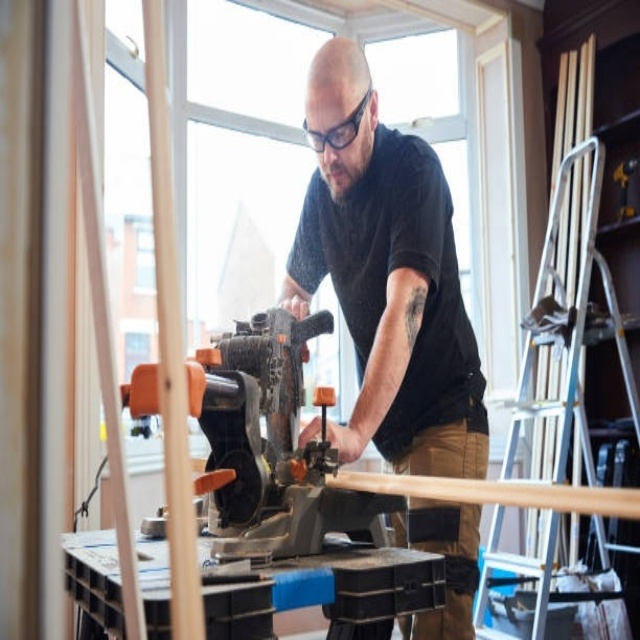Gafas: (304, 85, 371, 153)
Sin_guantes: (303, 408, 367, 471)
Sin_mascara: (319, 157, 353, 199)
